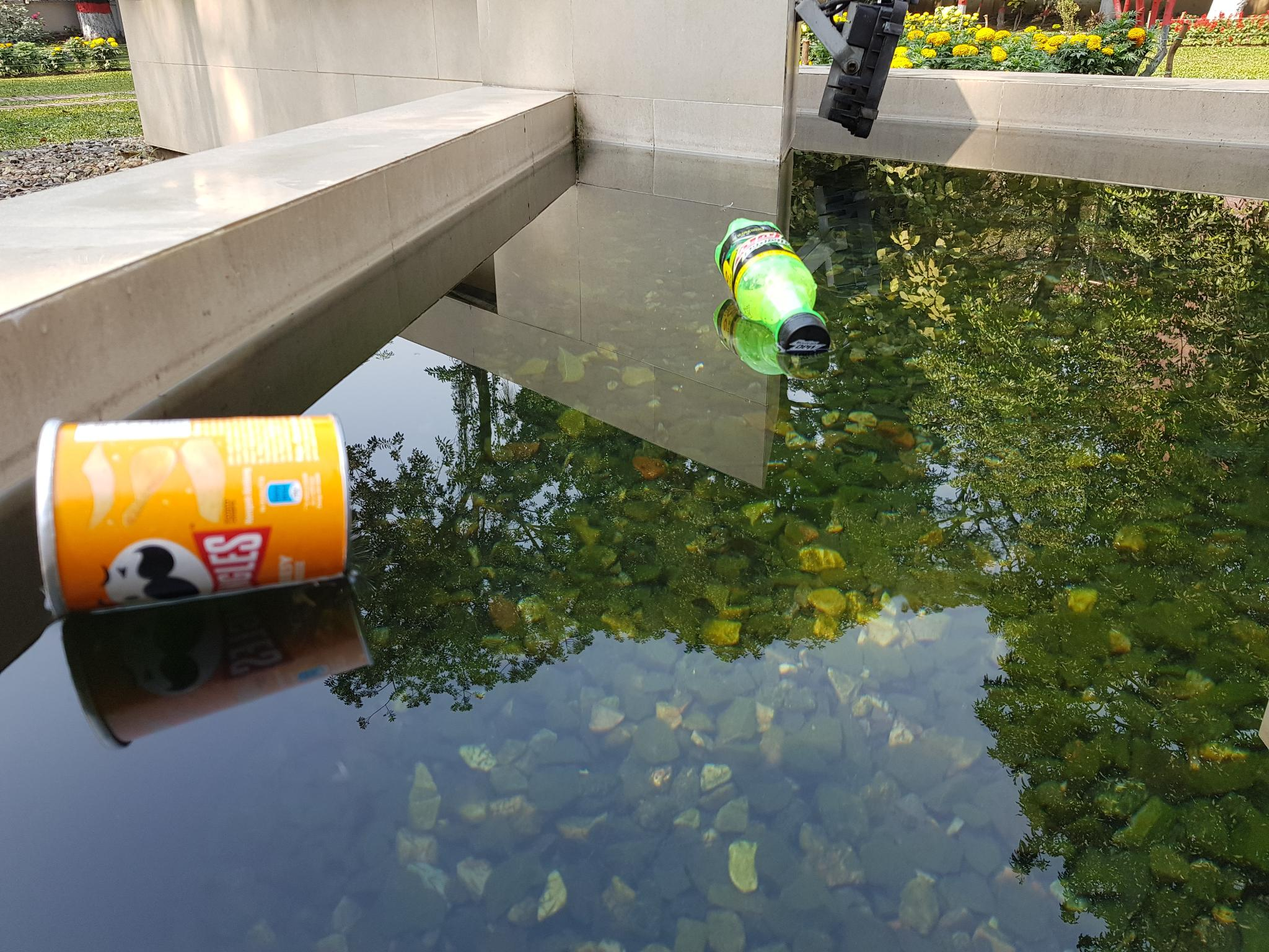trash_plastic: (32, 417, 347, 615), (718, 213, 829, 354)
